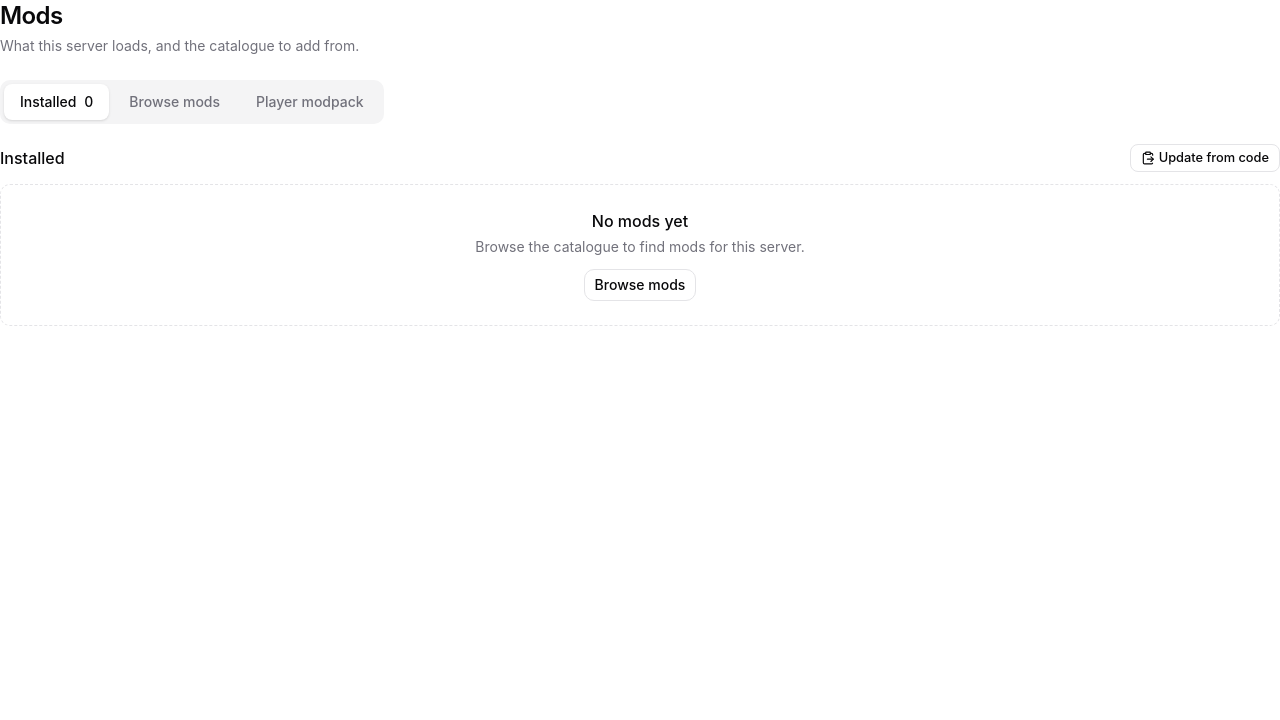
Test case: the mod screen › says nothing about a backup when the install replaces nothing
This screenshot has width=1280, height=720.
Click the tab "Browse mods" at (175, 102), box [113,84,236,120]
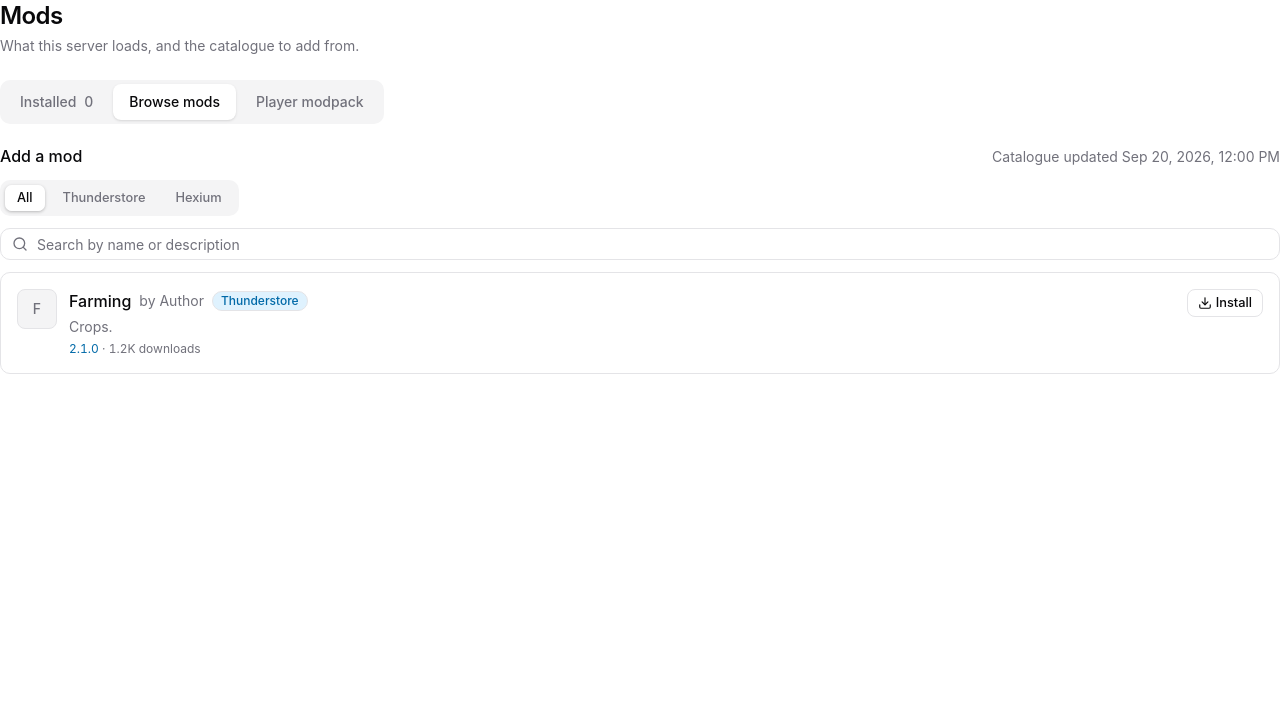
Click the button "Install" at (1225, 303), box [1187,289,1263,317]
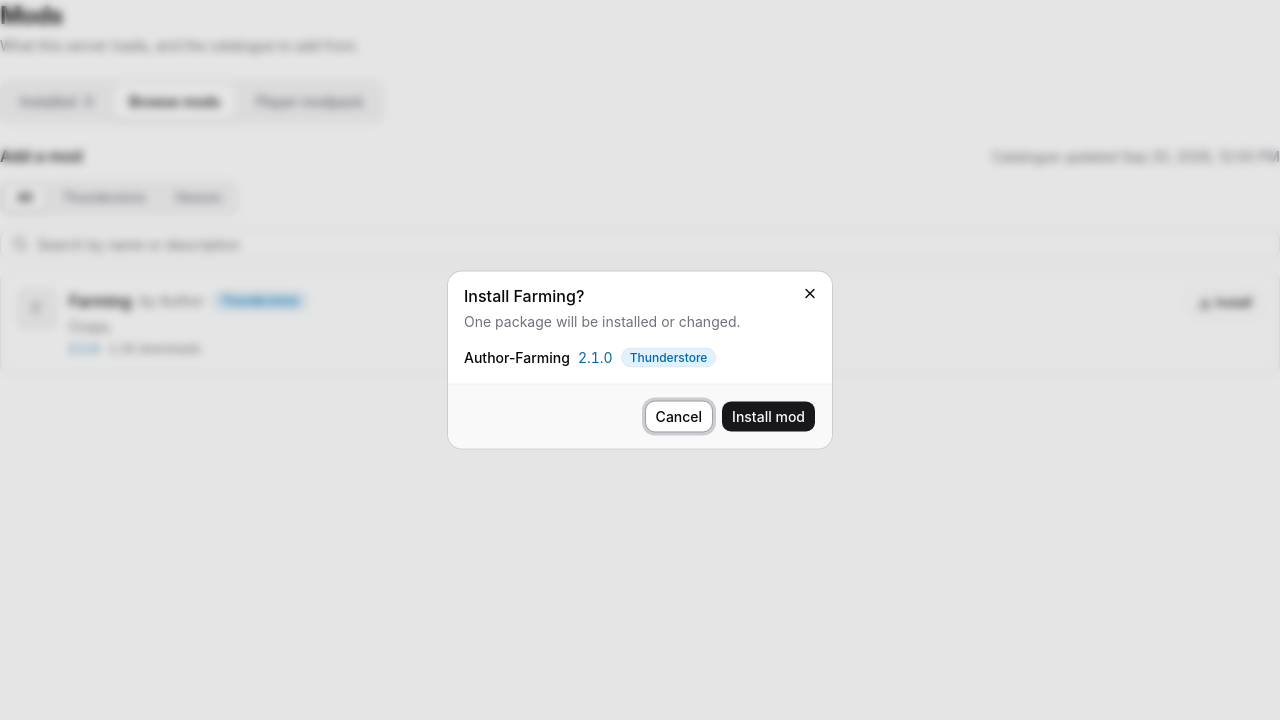
Result: the button "Install mod" is shown at [721,400,816,432]
